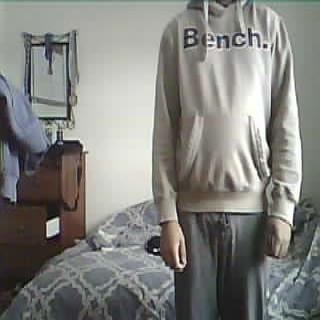Gray Sweatpants: (166, 208, 273, 320)
Yellow Hoodie: (149, 1, 303, 220)
